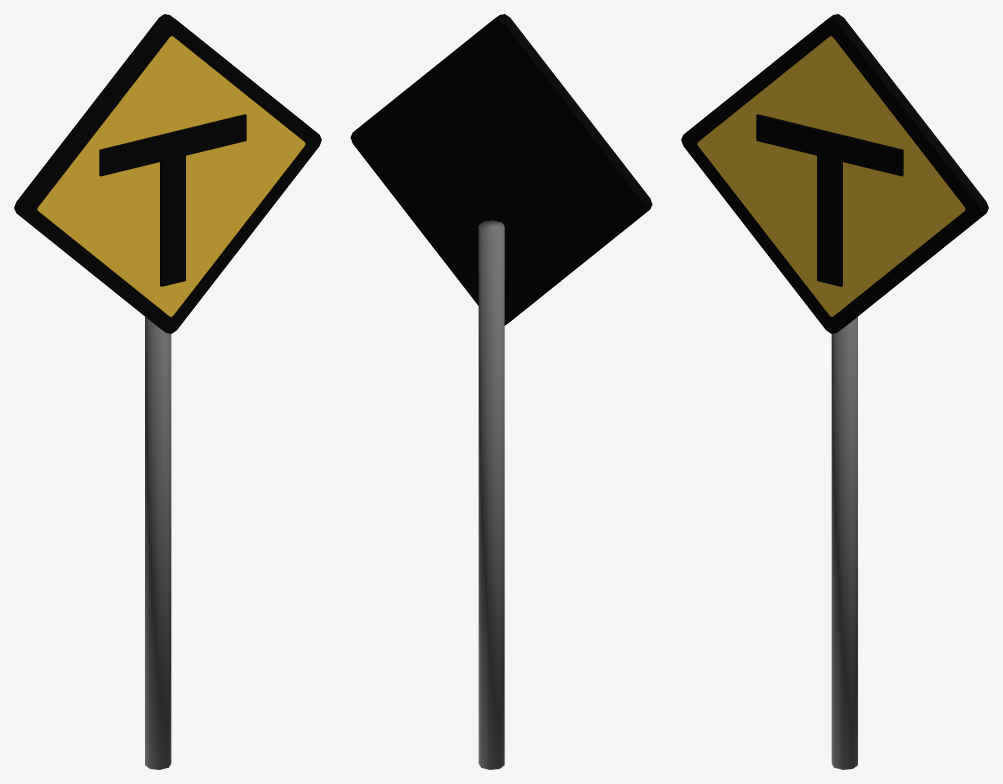
The model's file is Prop_StreetSign_T.fbx.
The picture shows the model from 3 angles, left to right: view 1: azimuth 30°, elevation 25°; view 2: azimuth 150°, elevation 25°; view 3: azimuth 330°, elevation 25°; orthographic projection.
Parts seen in each view (by area): view 1: Prop_StreetSign_T; view 2: Prop_StreetSign_T; view 3: Prop_StreetSign_T.
Part boxes in pixels (x1=…): Prop_StreetSign_T: x1=14, y1=14, x2=321, y2=769; Prop_StreetSign_T: x1=350, y1=14, x2=652, y2=769; Prop_StreetSign_T: x1=681, y1=14, x2=988, y2=769.
Bounding box in the file's own units: 190 × 455 × 23.79.
